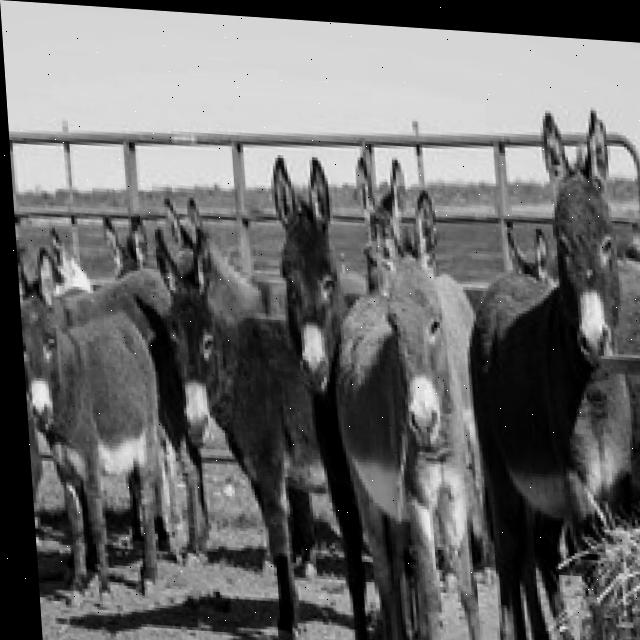Donkey: (450, 98, 640, 640), (149, 192, 336, 640), (319, 181, 500, 640), (16, 243, 197, 616), (269, 151, 391, 640), (459, 221, 585, 640), (99, 211, 211, 566), (15, 229, 60, 599), (352, 154, 409, 295), (99, 211, 149, 277)
